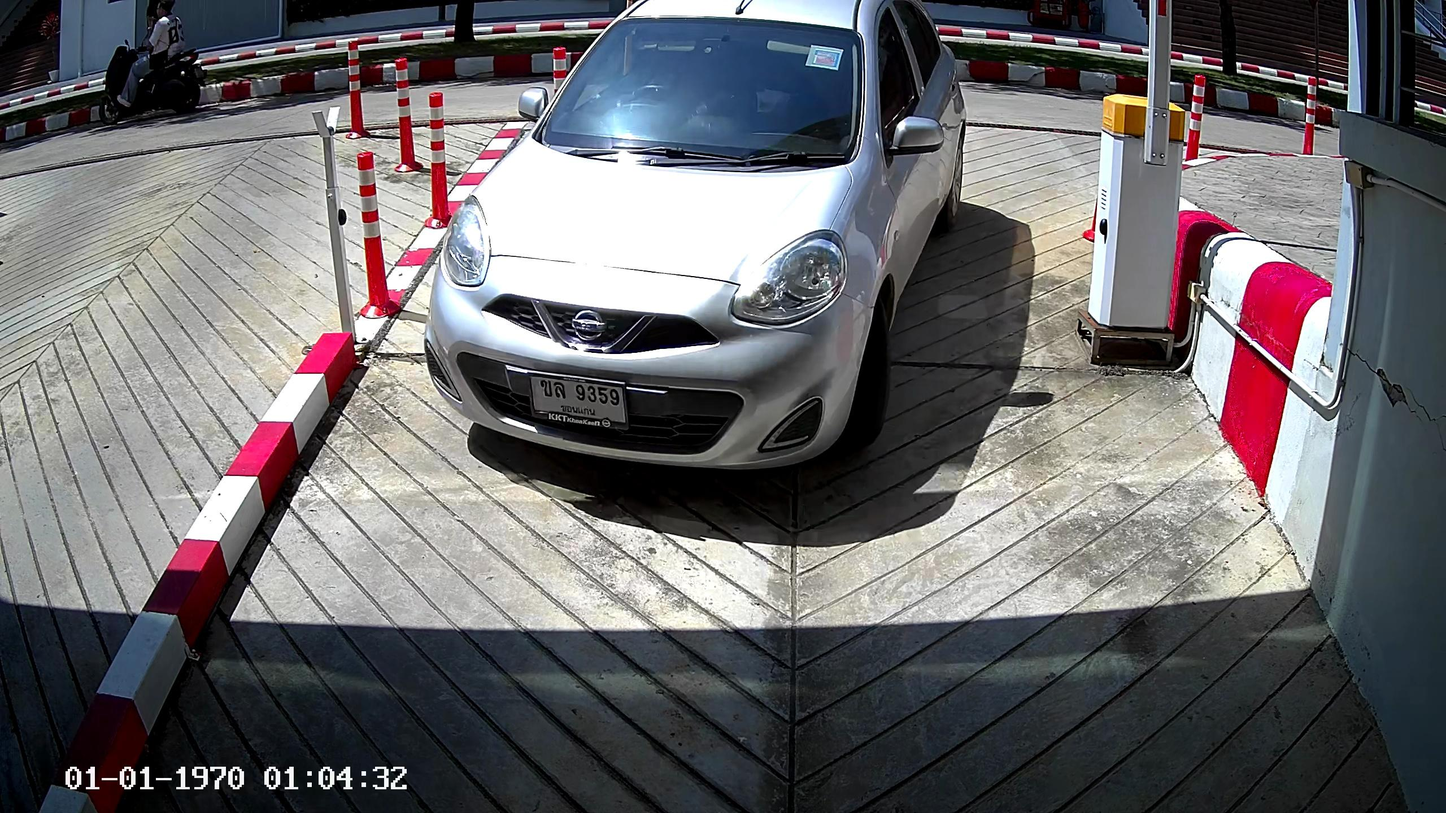car: (425, 6, 968, 479)
license-plate: (529, 368, 631, 434)
